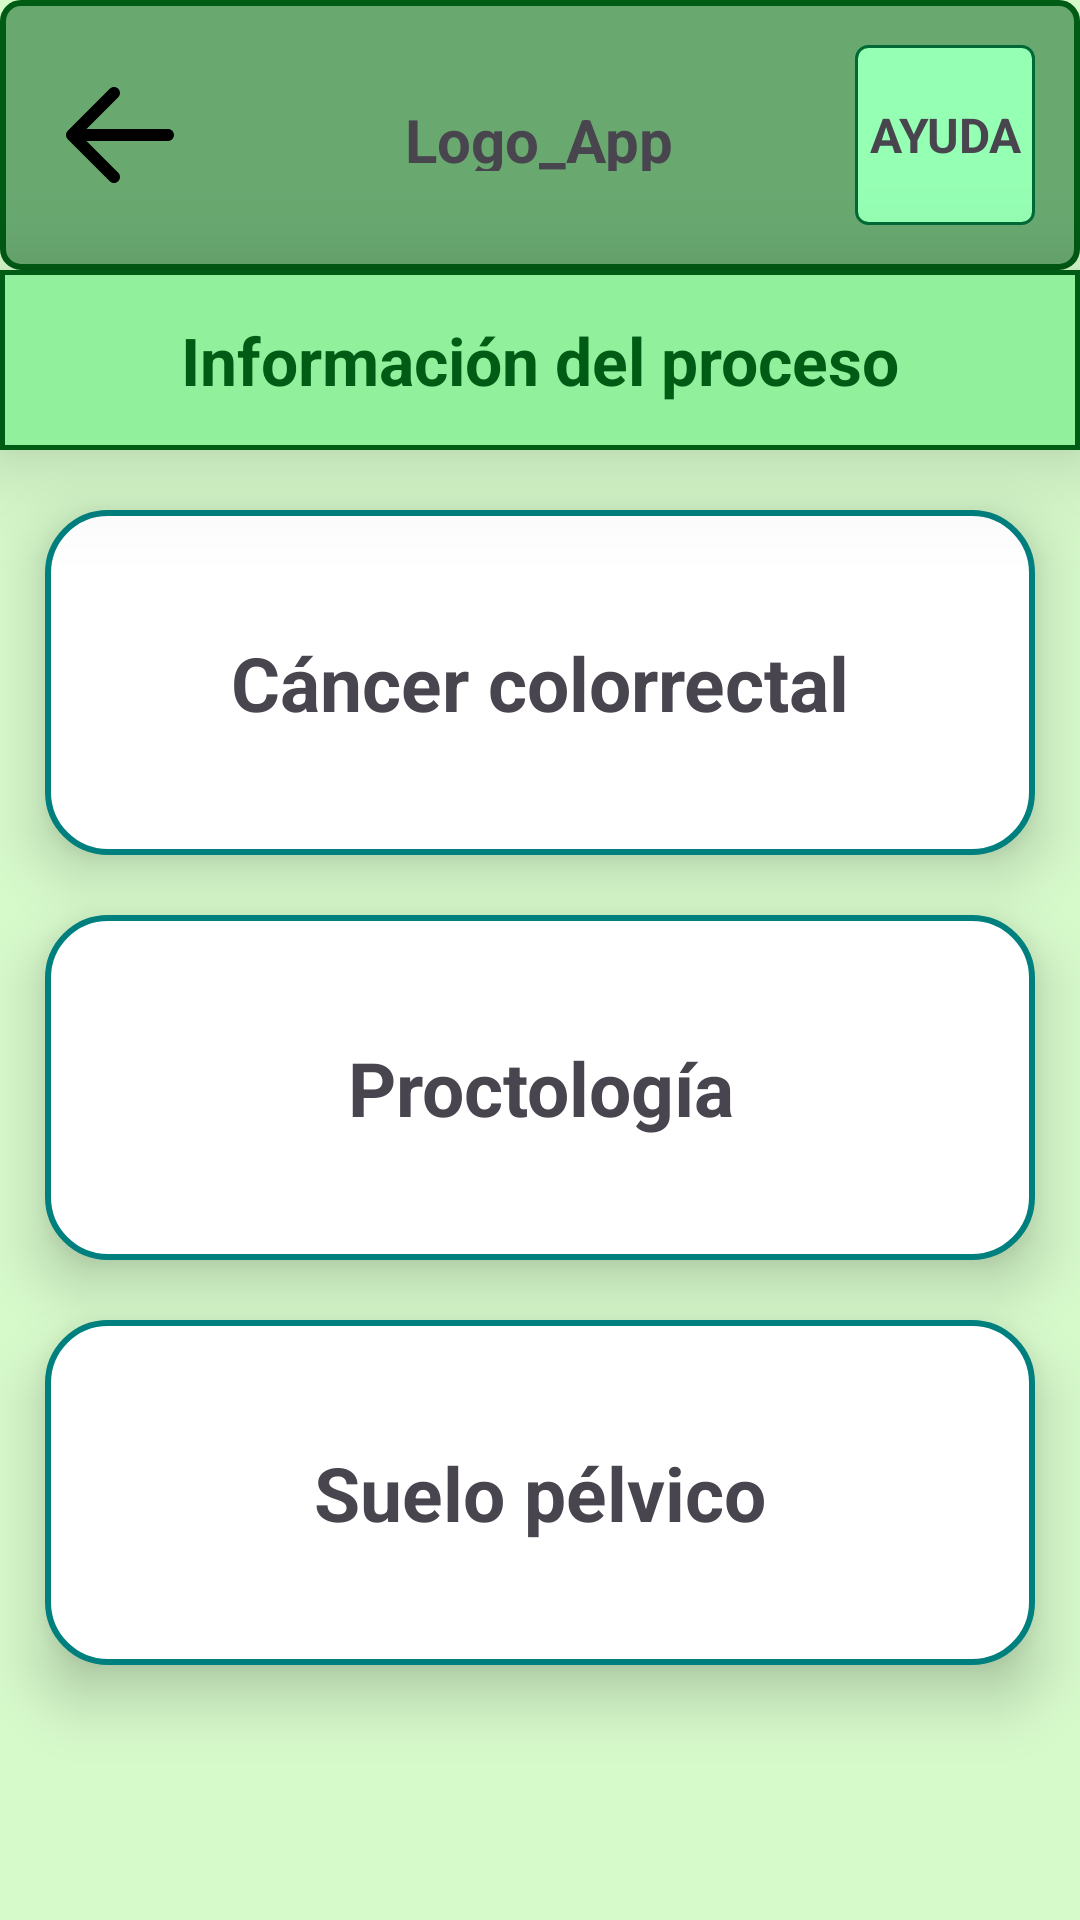

Icon click points for this 1080px x 1920px phone screenshot, format (x,y):
Volver atrás: (120,135)
